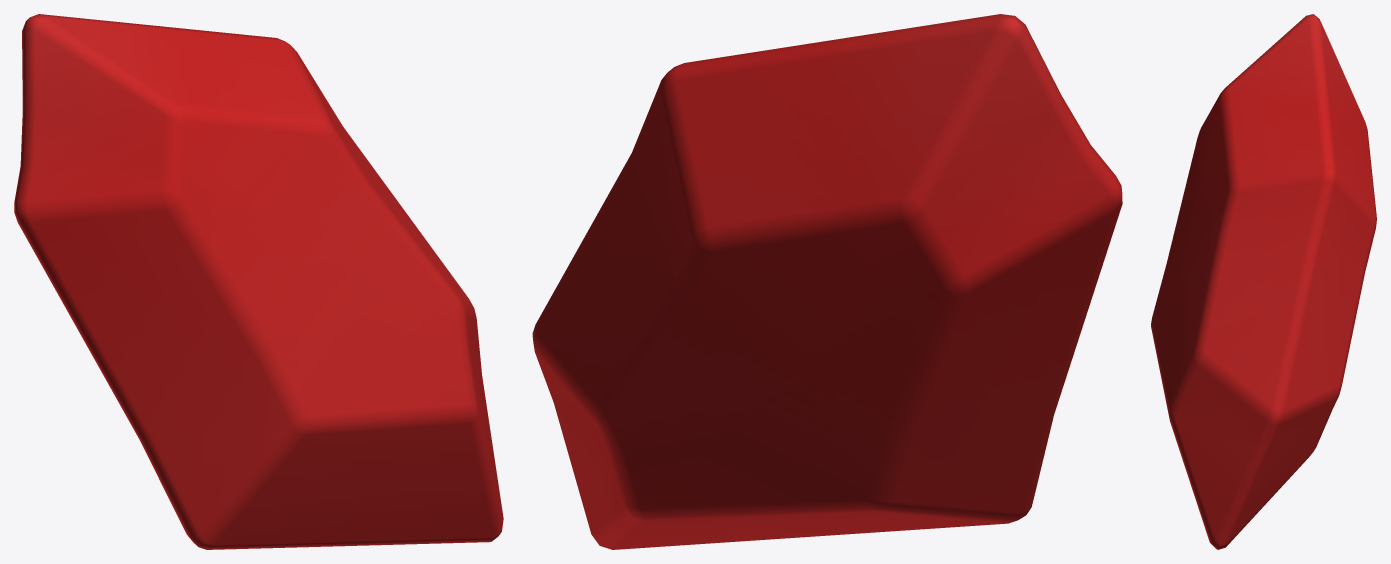
The picture shows the model from 3 angles, left to right: view 1: azimuth 30°, elevation 25°; view 2: azimuth 150°, elevation 25°; view 3: azimuth 270°, elevation 25°; orthographic projection. The views are drawn at different scales.
Parts seen in each view (by area): view 1: model_1.139; view 2: model_1.139; view 3: model_1.139.
Part boxes in pixels (box(x1,y1,x2,y2)): model_1.139: box(14, 14, 503, 549); model_1.139: box(532, 14, 1122, 549); model_1.139: box(1151, 14, 1376, 549).
Size of the model in its own units: 3.48 by 4.07 by 2.08.
